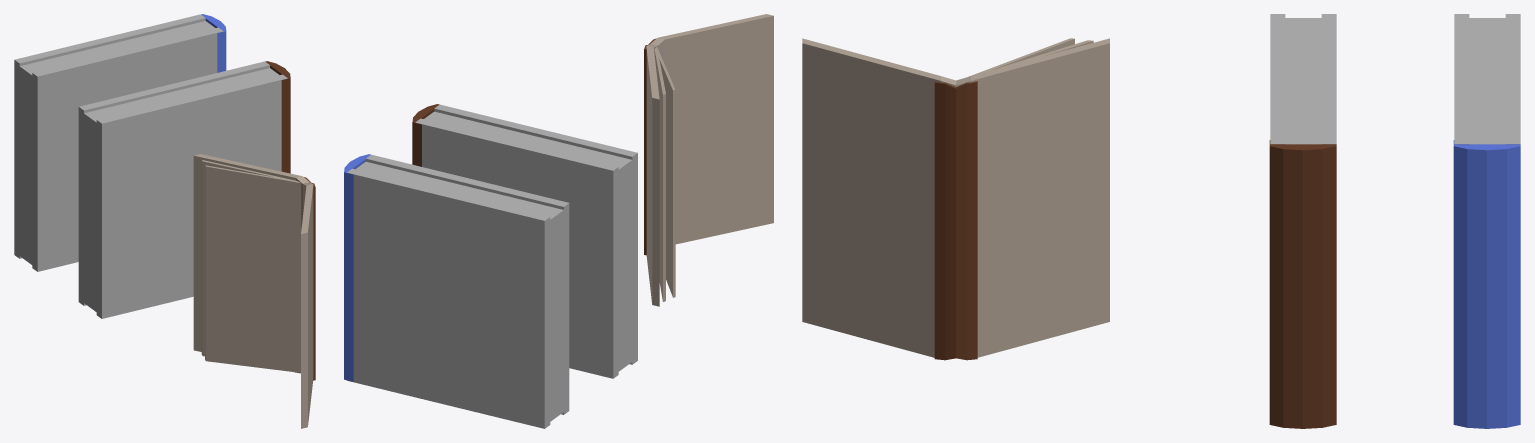
The model's file is Book.fbx.
The picture shows the model from 3 angles, left to right: view 1: azimuth 30°, elevation 25°; view 2: azimuth 150°, elevation 25°; view 3: azimuth 270°, elevation 25°; orthographic projection. The views are drawn at different scales.
Parts seen in each view (by area): view 1: Cube.001, Book, Cube.002, Cube; view 2: Cube.002, Book, Cube.001, Cube; view 3: Book, Cube.001, Cube.002, Cube.
Boxes of the visible parts, bbox=[...] form: Cube.001: bbox=[78, 61, 290, 318]; Book: bbox=[193, 154, 313, 428]; Cube.002: bbox=[14, 14, 226, 271]; Cube: bbox=[304, 177, 315, 380]; Cube.002: bbox=[344, 154, 569, 428]; Book: bbox=[646, 14, 773, 306]; Cube.001: bbox=[412, 104, 637, 378]; Cube: bbox=[644, 38, 656, 255]; Book: bbox=[802, 38, 1109, 357]; Cube.001: bbox=[1269, 14, 1336, 428]; Cube.002: bbox=[1453, 14, 1520, 428]; Cube: bbox=[934, 81, 977, 360].
Size of the model in its own units: 209 by 201 by 467.
